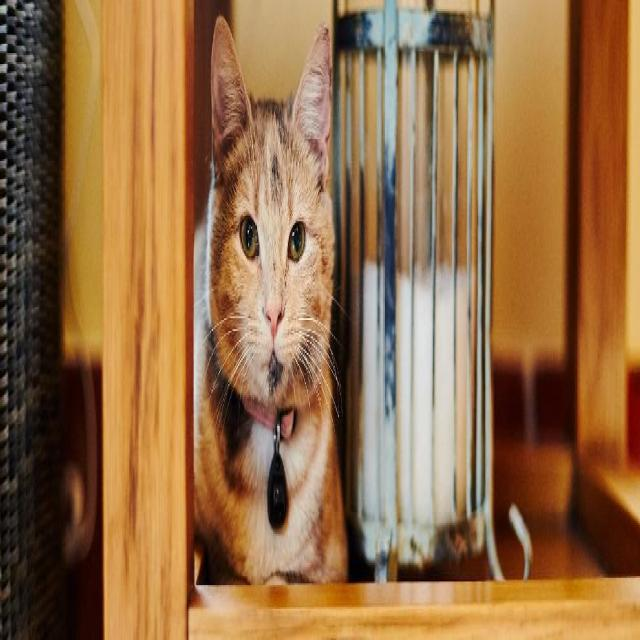Cat: (203, 8, 338, 434)
